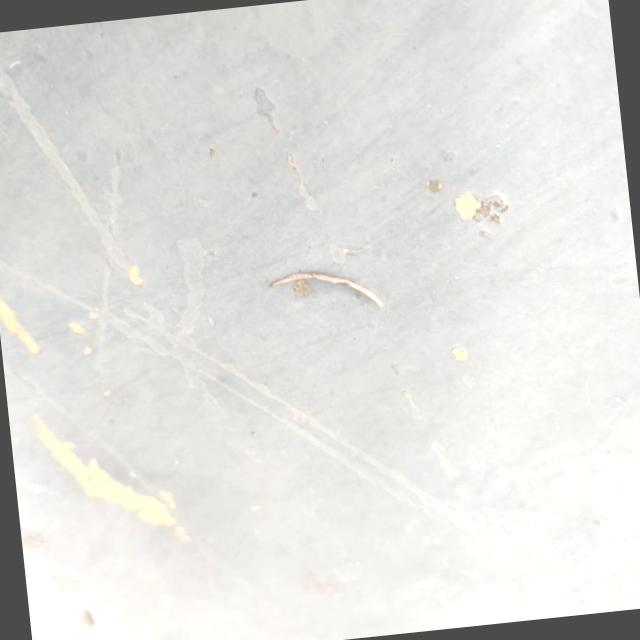scratch: (252, 247, 402, 341)
